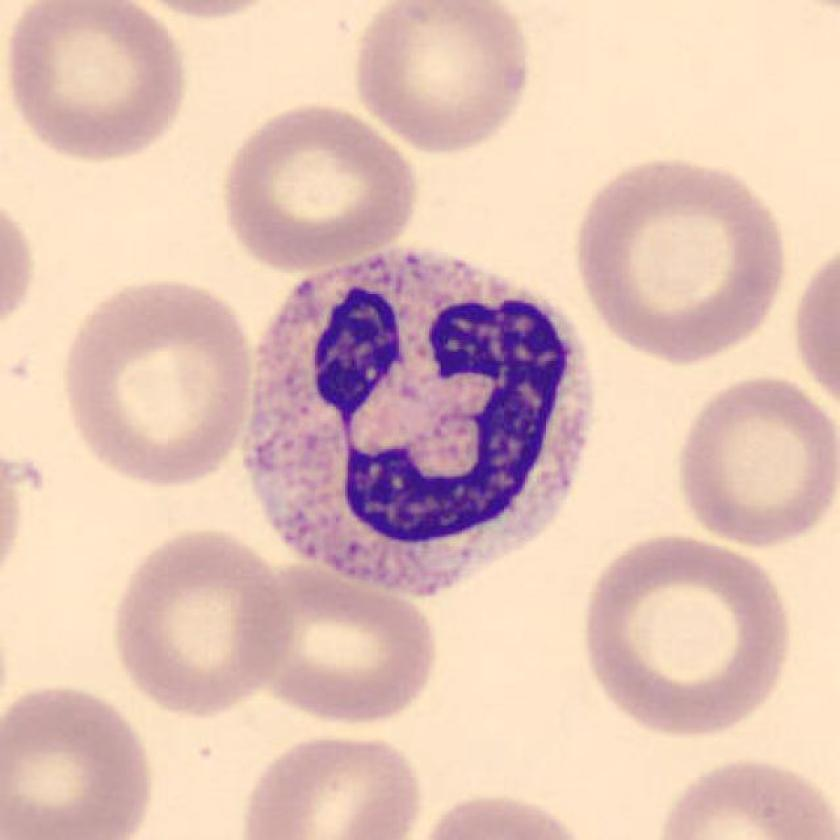neutrophil: (241, 254, 593, 597)
